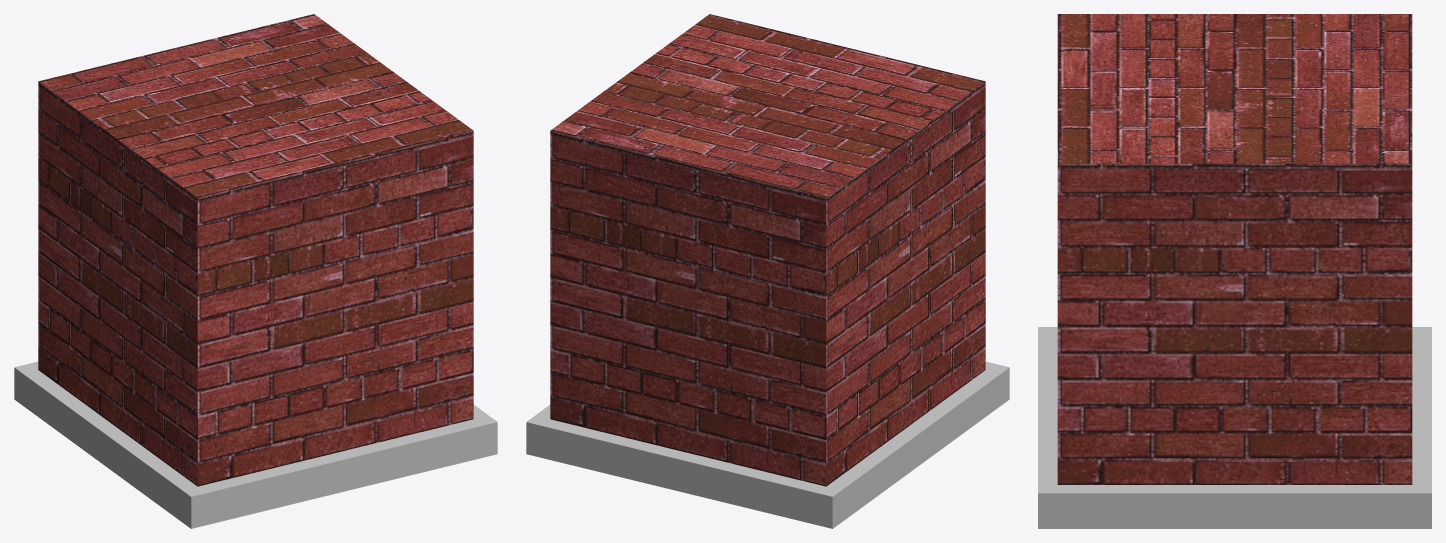
File: brick.dae
3 renders of one model, left to right at view 1: azimuth 30°, elevation 25°; view 2: azimuth 150°, elevation 25°; view 3: azimuth 270°, elevation 25°, orthographic. The views are drawn at different scales.
Parts seen in each view (by area): view 1: Сборка1; view 2: Сборка1; view 3: Сборка1.
Part boxes in pixels (box(x1,y1,x2,y2)): Сборка1: box(14, 14, 497, 528); Сборка1: box(526, 14, 1009, 528); Сборка1: box(1038, 14, 1431, 528).
Bounding box in the file's own units: 1000 × 1000 × 1000.
